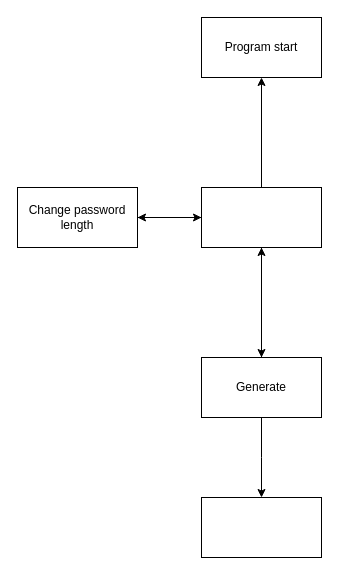
This 339x575 diagram has some shape labels left out. The box of each missing label's shape, as (x1, y1, x2, y2) in pixels:
Main loop: (200, 186, 322, 248)
Output to user: (200, 496, 322, 558)
